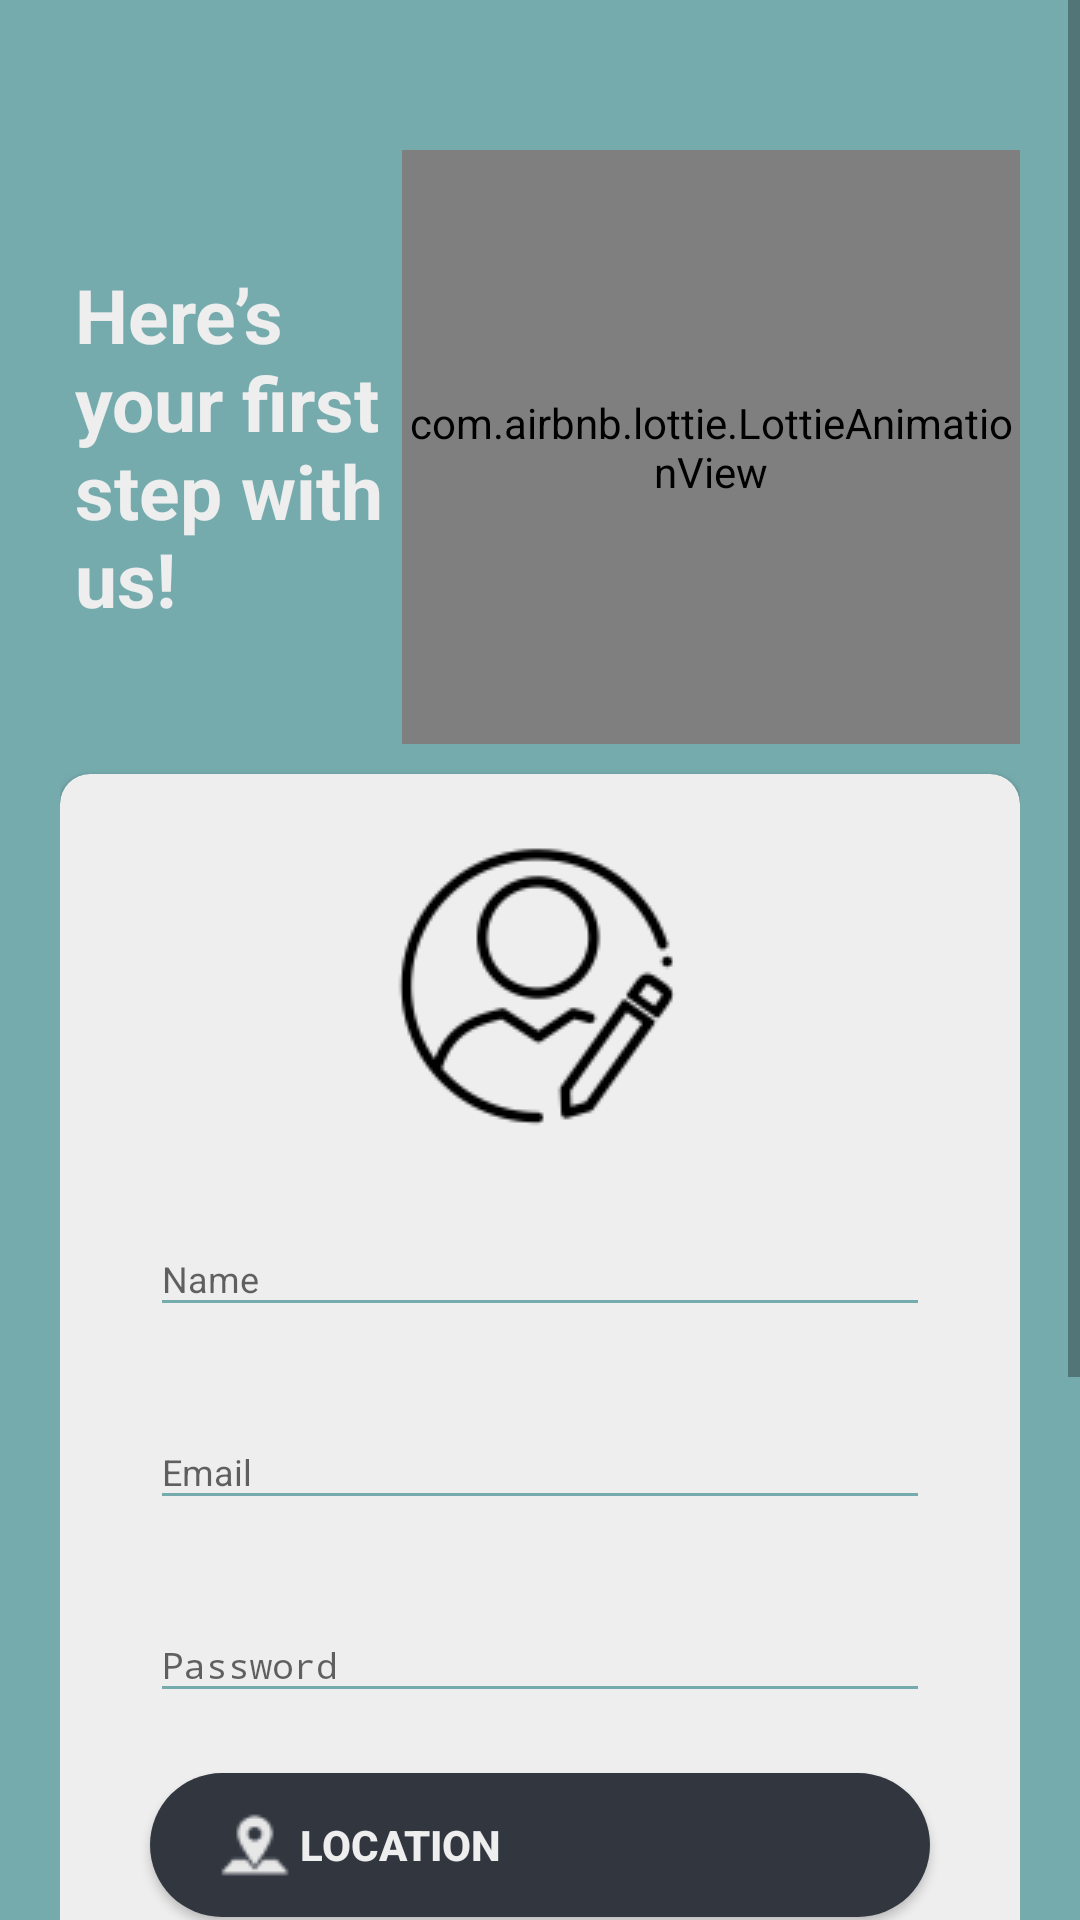

Screen size 1080*1920. Icon name, then its center in pixels as point (x, y):
profile: point (536, 986)
